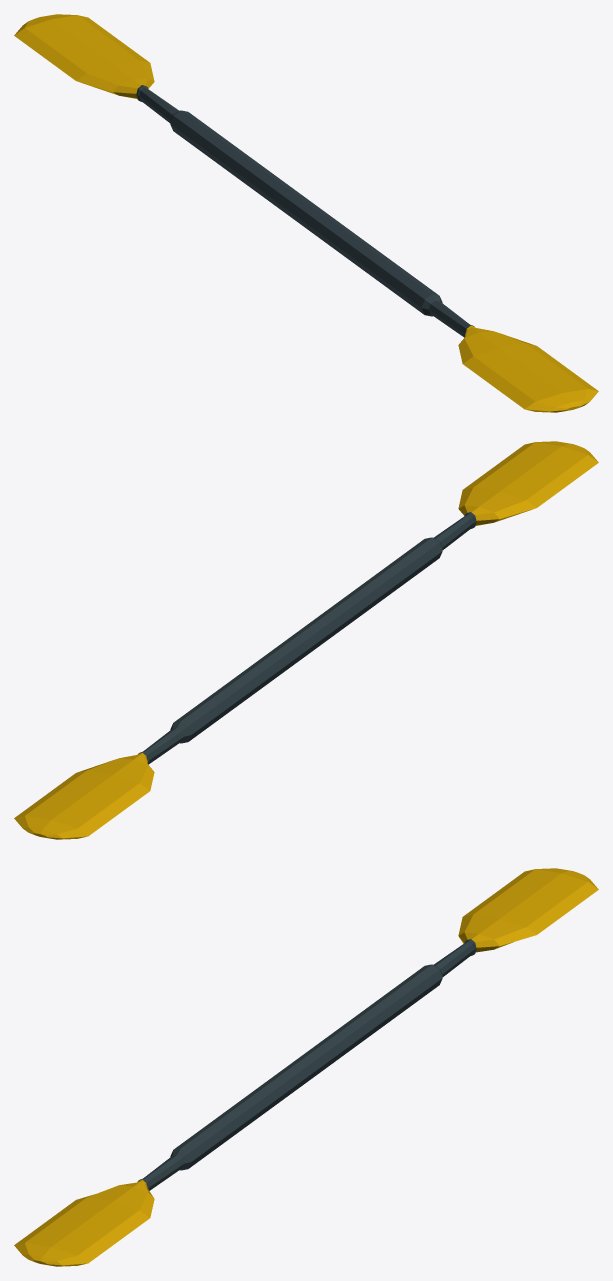
File: KayakPaddle.glb
3 views of the same model, one above another, from view 1: azimuth 30°, elevation 25°; view 2: azimuth 150°, elevation 25°; view 3: azimuth 330°, elevation 25° (orthographic).
Visible parts, largest first — view 1: KayakPaddle; view 2: KayakPaddle; view 3: KayakPaddle.
Boxes of the visible parts, left/top/right/bottom form: KayakPaddle: left=14, top=14, right=598, bottom=412; KayakPaddle: left=14, top=441, right=598, bottom=839; KayakPaddle: left=14, top=868, right=598, bottom=1266.
Size of the model in its own units: 0.3224 by 0.092 by 4.
1 material, 1 textured.
